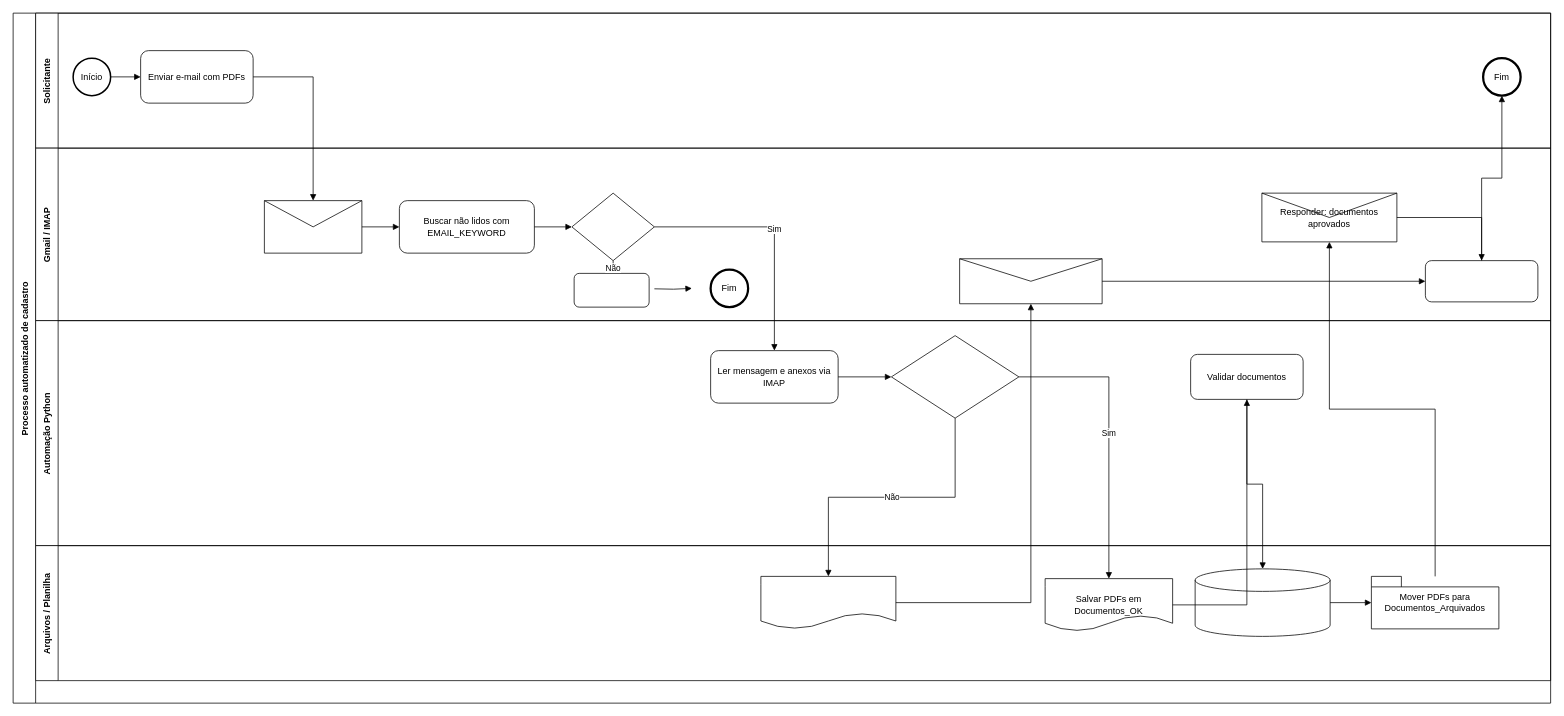
The diagram is 1564 pixels wide and 716 high, and some of its shapes have lost their labels. The centre of each missing label's shape, as x and y in pixels:
Aguardar 3 s: [611,290]
E-mail encontrado?: [612,226]
Existem 3 PDFs distintos com Nome, CPF e Endereço?: [955,376]
Extrair dados e atualizar Planilha_Mestra.xlsx: [1262,602]
Marcar e-mail como lido: [1481,281]
Receber e-mail: [313,226]
Responder: documentos faltando ou ilegíveis: [1030,281]
Salvar PDFs em Documentos_Pendentes: [828,602]
